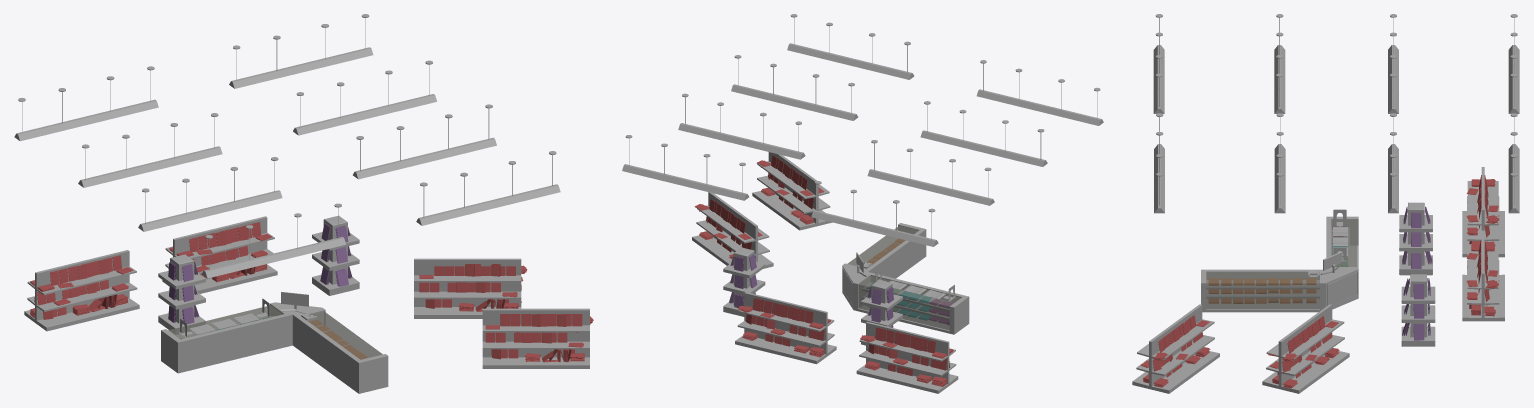
Rendered from HUB.fbx.
3 views of the same model, side by side, from view 1: azimuth 30°, elevation 25°; view 2: azimuth 150°, elevation 25°; view 3: azimuth 270°, elevation 25° (orthographic). The views are drawn at different scales.
Visible parts, largest first — view 1: pCube8, pCube9, Hub_ShelvesForScene:pCube9, pCube149, pCube148, pCube145, pCube147, Hub_ShelvesForScene:pCube145, pCube146, pCube150, Hub_Shelves2ForScene:pCube9, pCylinder19 (+9 smaller); view 2: pCube8, pCube147, pCube149, pCube9, Hub_ShelvesForScene:pCube9, pCube148, pCube146, pCylinder18, pCylinder22, Hub_Lights:pCylinder16, pCylinder17, pCylinder19 (+10 smaller); view 3: pCube8, pCube9, Hub_ShelvesForScene:pCube9, pCube147, pCube149, Hub_Shelves2ForScene:pCube9, pCube150, Hub_CounterForScene:pCube170, Hub_ShelvesForScene:pCube145, pCube145, pCube146, pCube148 (+11 smaller).
Boxes of the visible parts, x1,y1,x2,y2 form: pCube8: (161,302,388,393); pCube9: (482,308,589,368); Hub_ShelvesForScene:pCube9: (414,258,521,318); pCube149: (24,250,139,331); pCube148: (30,255,133,319); pCube145: (485,314,593,362); pCube147: (162,216,277,293); Hub_ShelvesForScene:pCube145: (419,264,527,311); pCube146: (169,222,272,282); pCube150: (158,254,205,333); Hub_Shelves2ForScene:pCube9: (312,215,359,295); pCylinder19: (416,151,560,225); pCube8: (842,223,969,334); pCube147: (735,292,836,364); pCube149: (856,321,958,393); pCube9: (752,152,832,230); Hub_ShelvesForScene:pCube9: (692,192,773,268); pCube148: (860,327,953,386); pCube146: (738,298,830,357); pCylinder18: (731,55,858,120); pCylinder22: (622,135,748,200); Hub_Lights:pCylinder16: (920,101,1047,166); pCylinder17: (678,93,805,159); pCylinder19: (787,14,914,79); pCube8: (1201,216,1358,312); pCube9: (1132,304,1219,393); Hub_ShelvesForScene:pCube9: (1262,304,1349,393); pCube147: (1462,230,1504,321); pCube149: (1462,167,1504,257); Hub_Shelves2ForScene:pCube9: (1401,274,1435,346); pCube150: (1399,202,1432,275); Hub_CounterForScene:pCube170: (1209,278,1315,303); Hub_ShelvesForScene:pCube145: (1268,316,1339,389); pCube145: (1140,315,1210,387); pCube146: (1466,240,1499,316); pCube148: (1467,175,1499,244).
Bounding box in the file's own units: 445 × 234 × 403.
